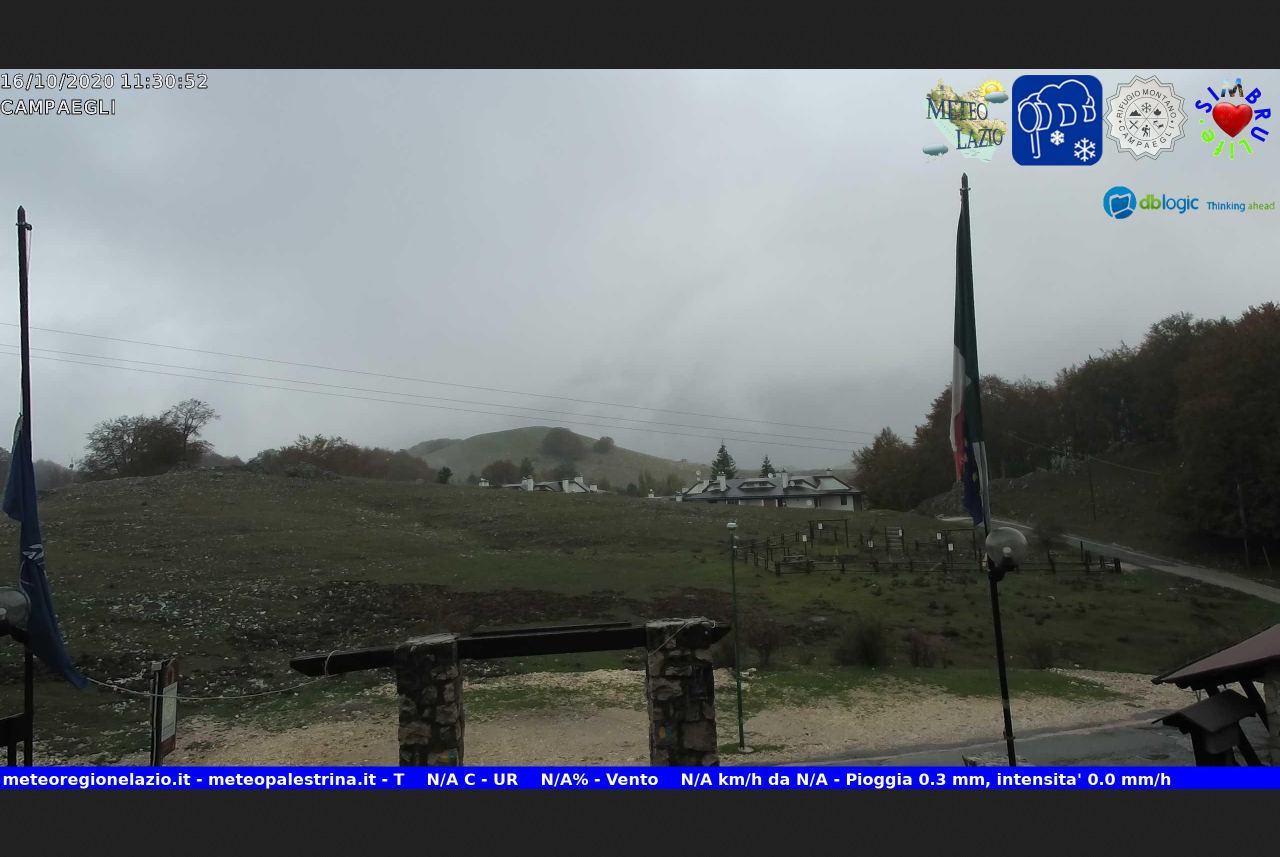no: (5, 411, 68, 676), (946, 185, 991, 527)
